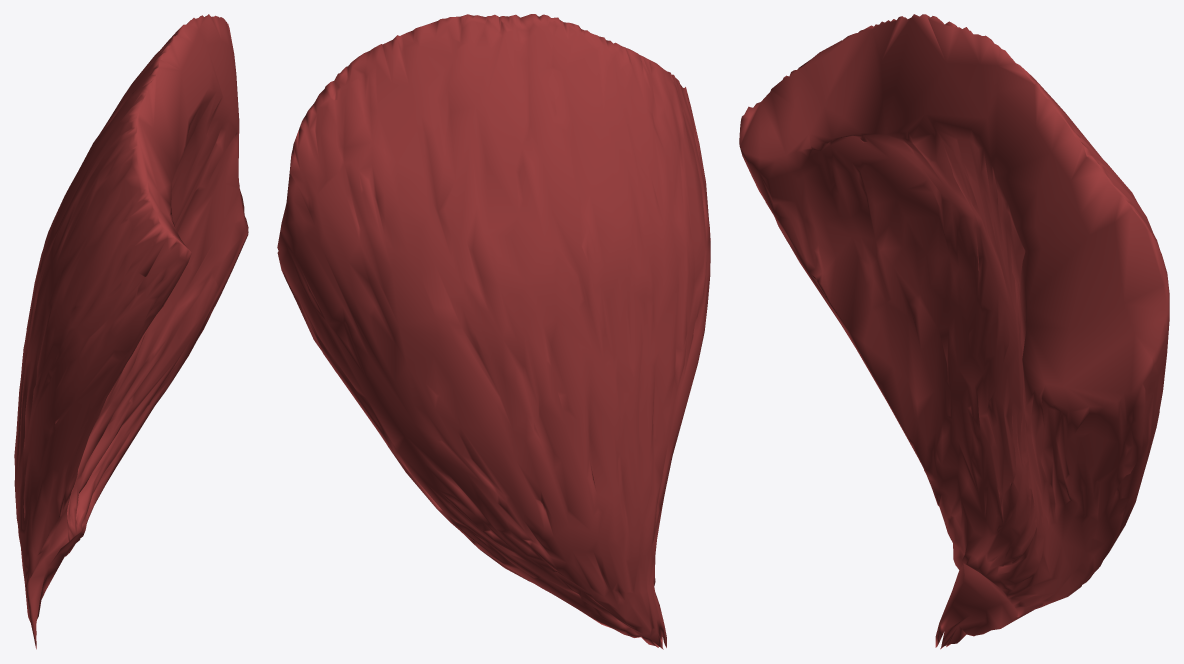
File: gluteus-medius-muscle-r.glb
3 renders of one model, left to right at view 1: azimuth 30°, elevation 25°; view 2: azimuth 150°, elevation 25°; view 3: azimuth 270°, elevation 25°, orthographic. The views are drawn at different scales.
Parts seen in each view (by area): view 1: Gluteus medius muscle.r; view 2: Gluteus medius muscle.r; view 3: Gluteus medius muscle.r.
Boxes of the visible parts, x1,y1,x2,y2 form: Gluteus medius muscle.r: (14,14,248,649); Gluteus medius muscle.r: (277,14,710,649); Gluteus medius muscle.r: (739,14,1169,649).
Bounding box in the file's own units: 0.0891 × 0.168 × 0.0916.
